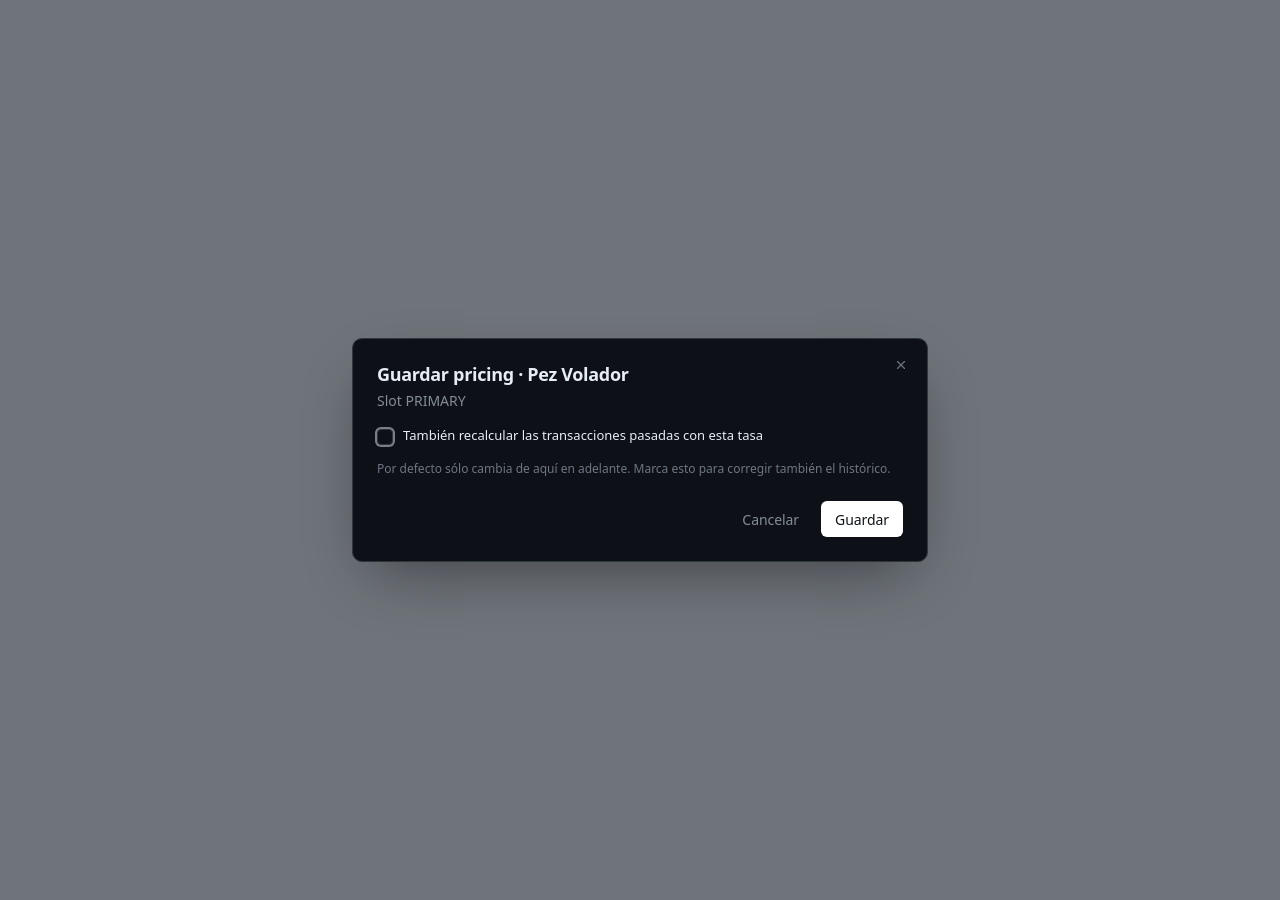
it: RetroactiveRateDialog › marcar el checkbox dispara el preview y muestra "Pagos a recalcular: 4"
Click the text "También recalcular las transacciones pasadas con esta tasa". click: point(583, 435)
box: x1=403 y1=426 x2=763 y2=444
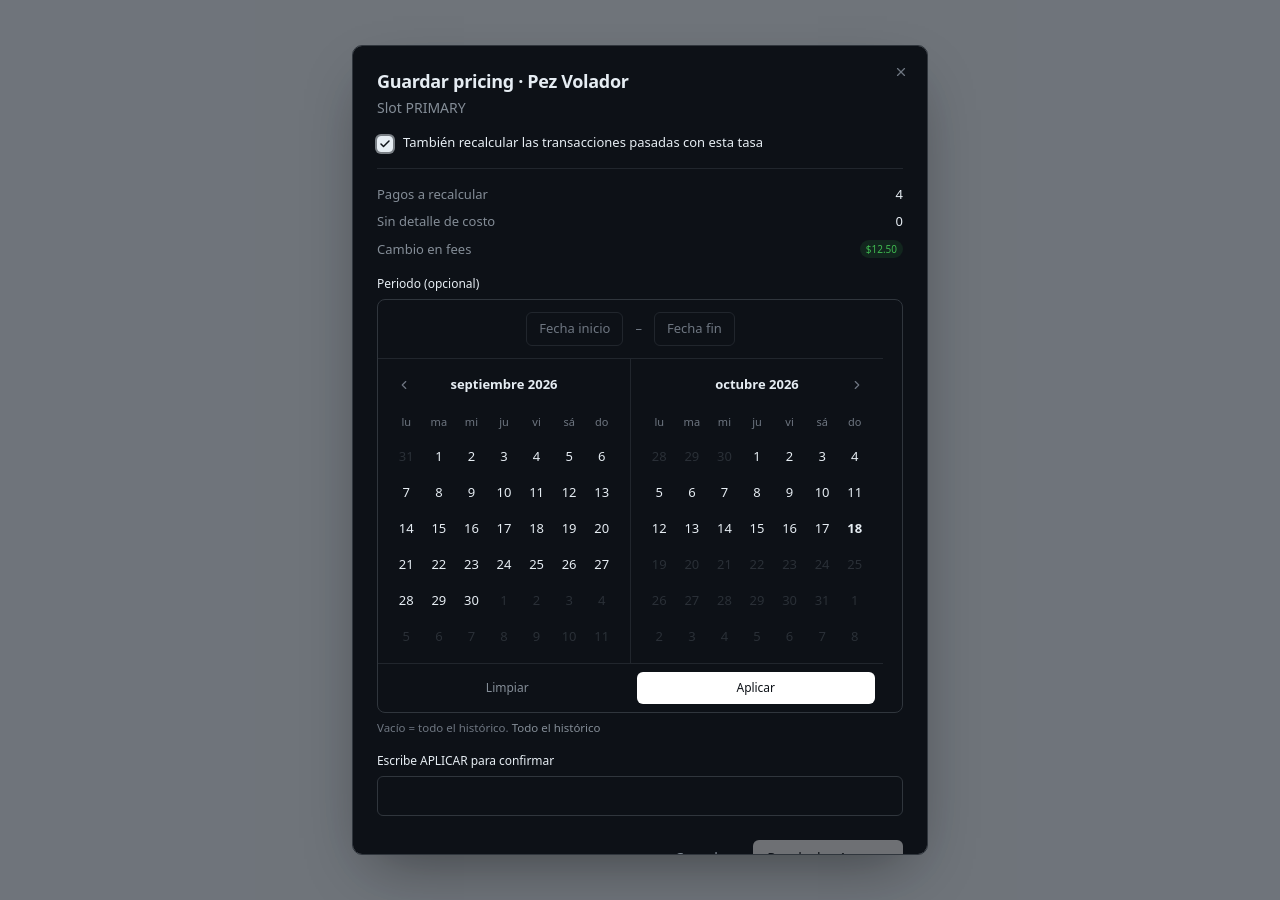
Check: the text "4" is shown, box x1=896 y1=184 x2=903 y2=204
